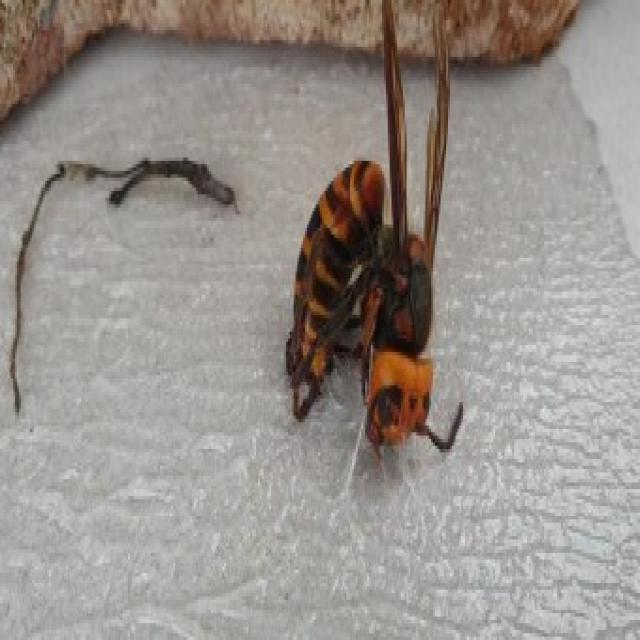Wasp: (277, 0, 488, 458)
